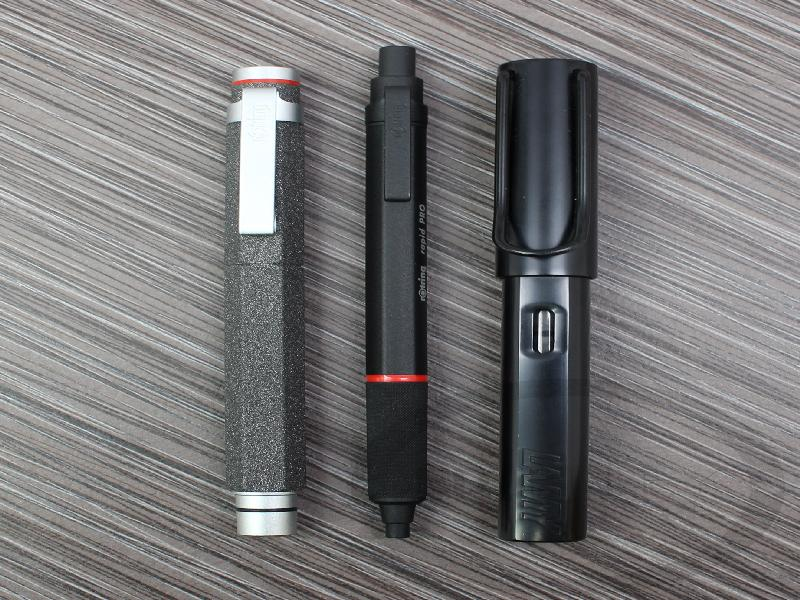pen: (481, 48, 606, 556), (349, 42, 442, 547), (221, 54, 311, 541)
